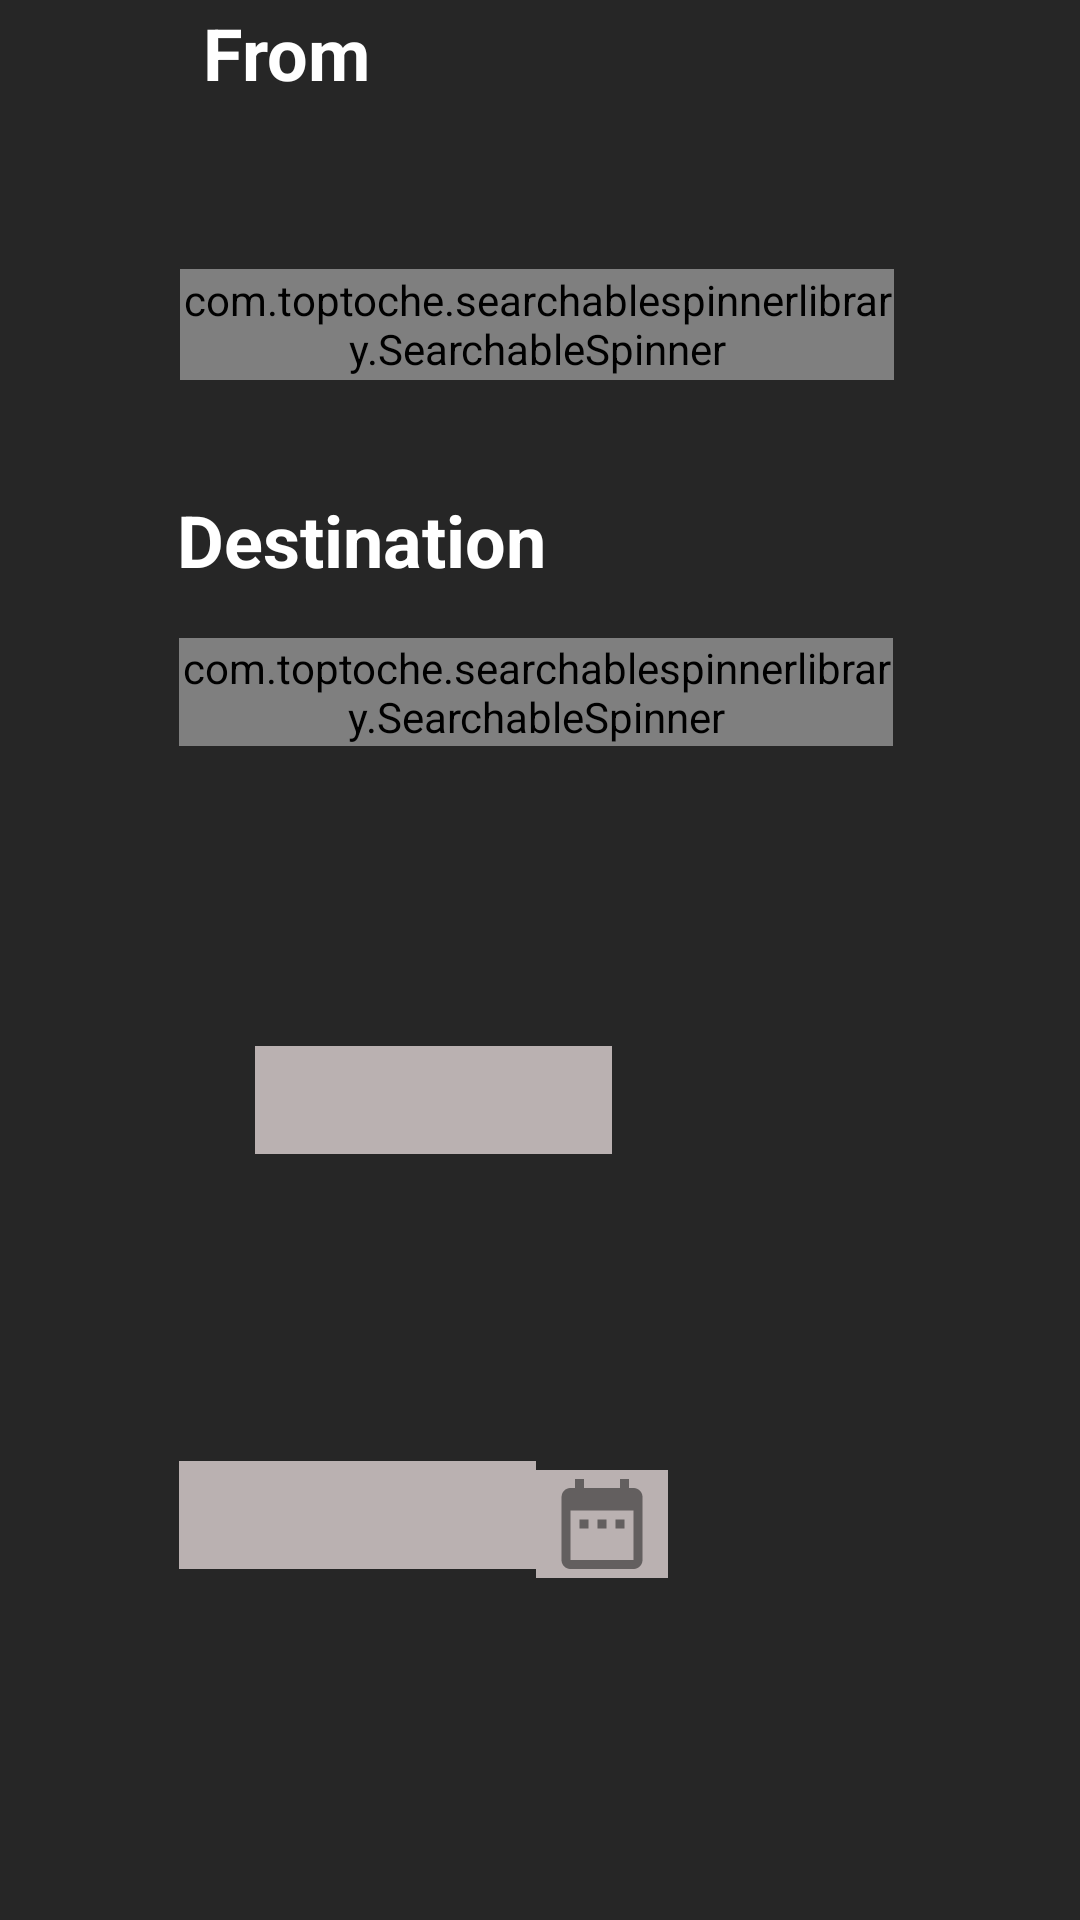

Locate icon controls on the screen. Image size 1080w x 1920h, boxes as (x1, y1, x2, y2).
date range: (536, 1470, 668, 1578)
